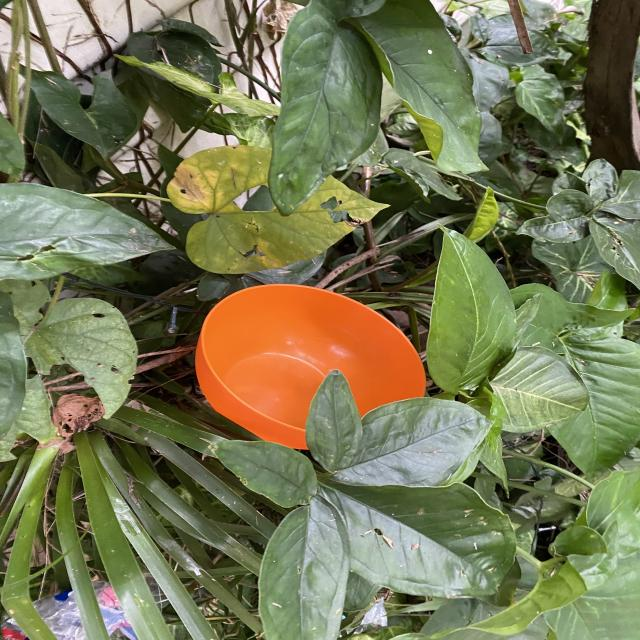bowl: (196, 283, 427, 450)
